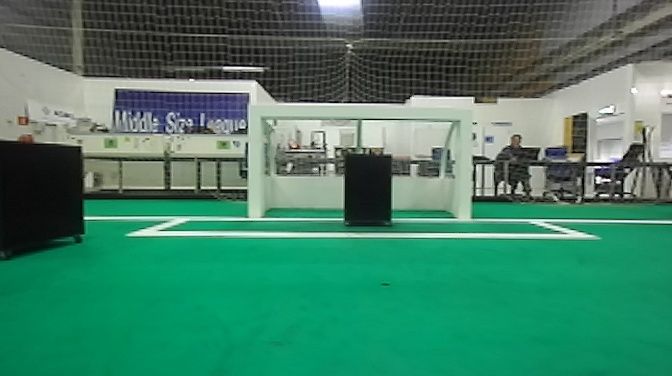goalpost: (244, 102, 265, 222), (449, 102, 469, 224)
